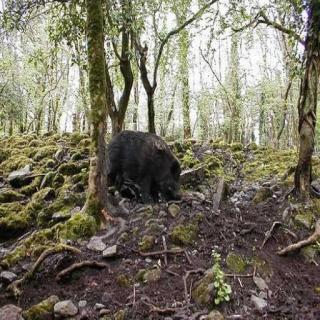Pig: (77, 88, 186, 224)
